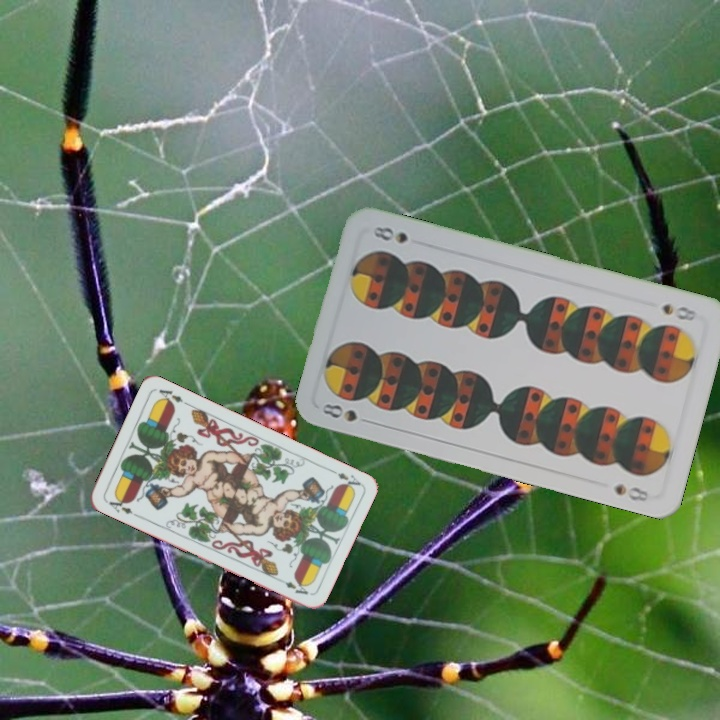EA: (102, 492, 141, 520), (325, 465, 363, 492)
S8: (318, 399, 376, 427), (658, 299, 701, 324)
